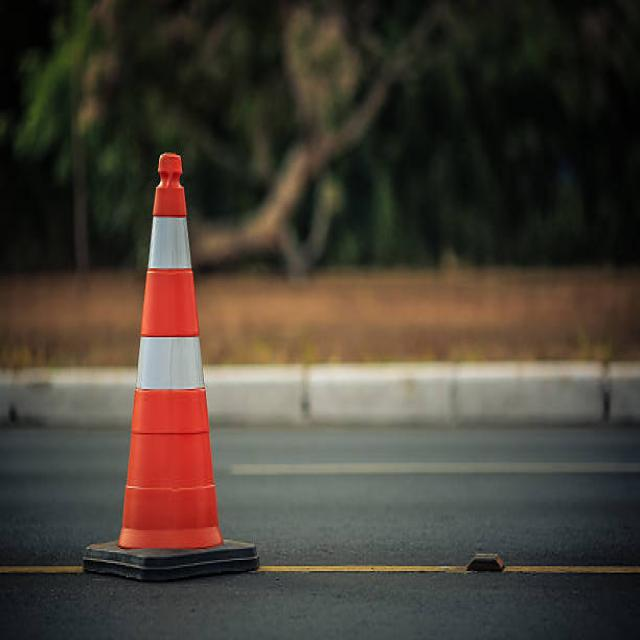Traffic Cone: (72, 108, 270, 603)
